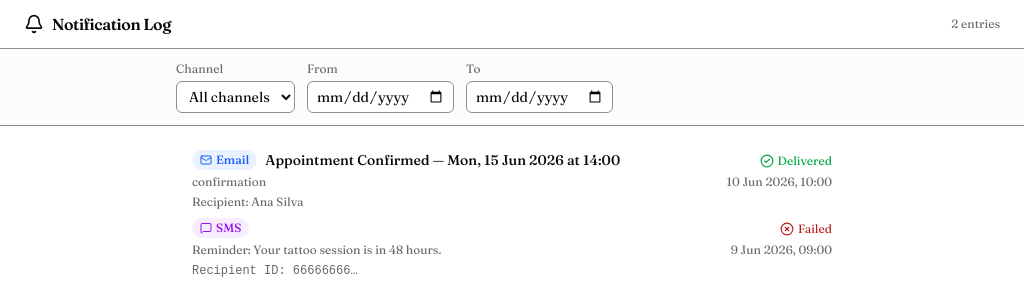
NotificationLogListPage › shows the 'Clear filters' button once a channel filter is chosen
Select "Email" in the dropdown labelled "Channel" at (236, 97), box [176,81,295,113]
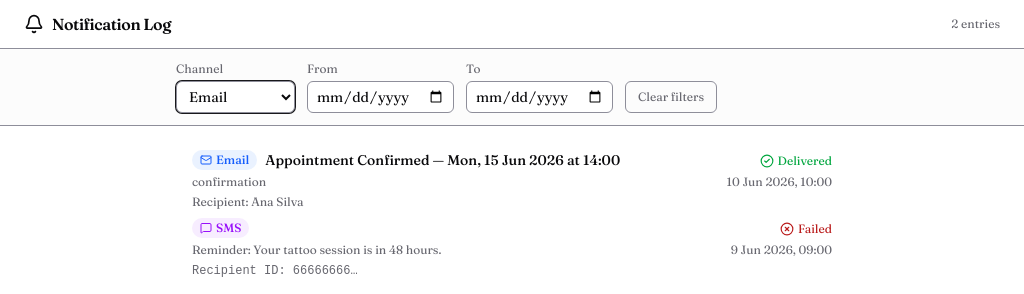
Check: the button "Clear filters" is shown, box [625,81,717,113]
